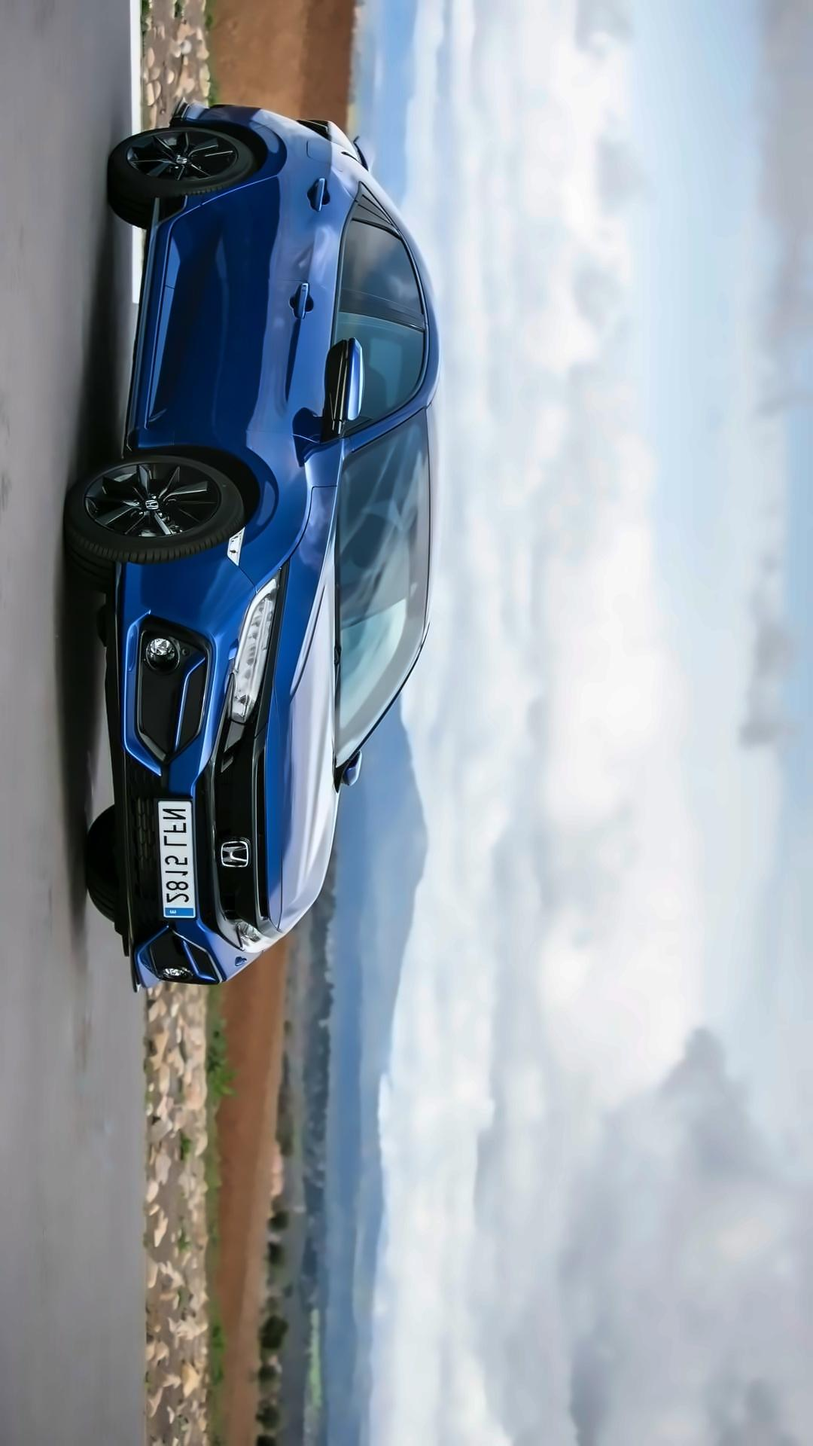Car hood: (249, 477, 339, 946)
Driver-s door - -F-R-: (151, 281, 440, 431)
Fender - -F-R-: (136, 428, 351, 598)
Fender - -R-R-: (158, 128, 323, 222)
Front bumper: (98, 542, 246, 993)
Headlight - -L-: (211, 906, 296, 968)
Headlight - -R-: (219, 550, 293, 735)
Passenger-s door - -R-R-: (149, 202, 435, 320)
Rear bumper: (170, 89, 269, 150)
Rear light - -R-: (294, 100, 378, 181)
Side bumper - -R-: (110, 183, 192, 479)
Side mirror - -L-: (330, 742, 387, 804)
Side mirror - -R-: (299, 332, 378, 458)
